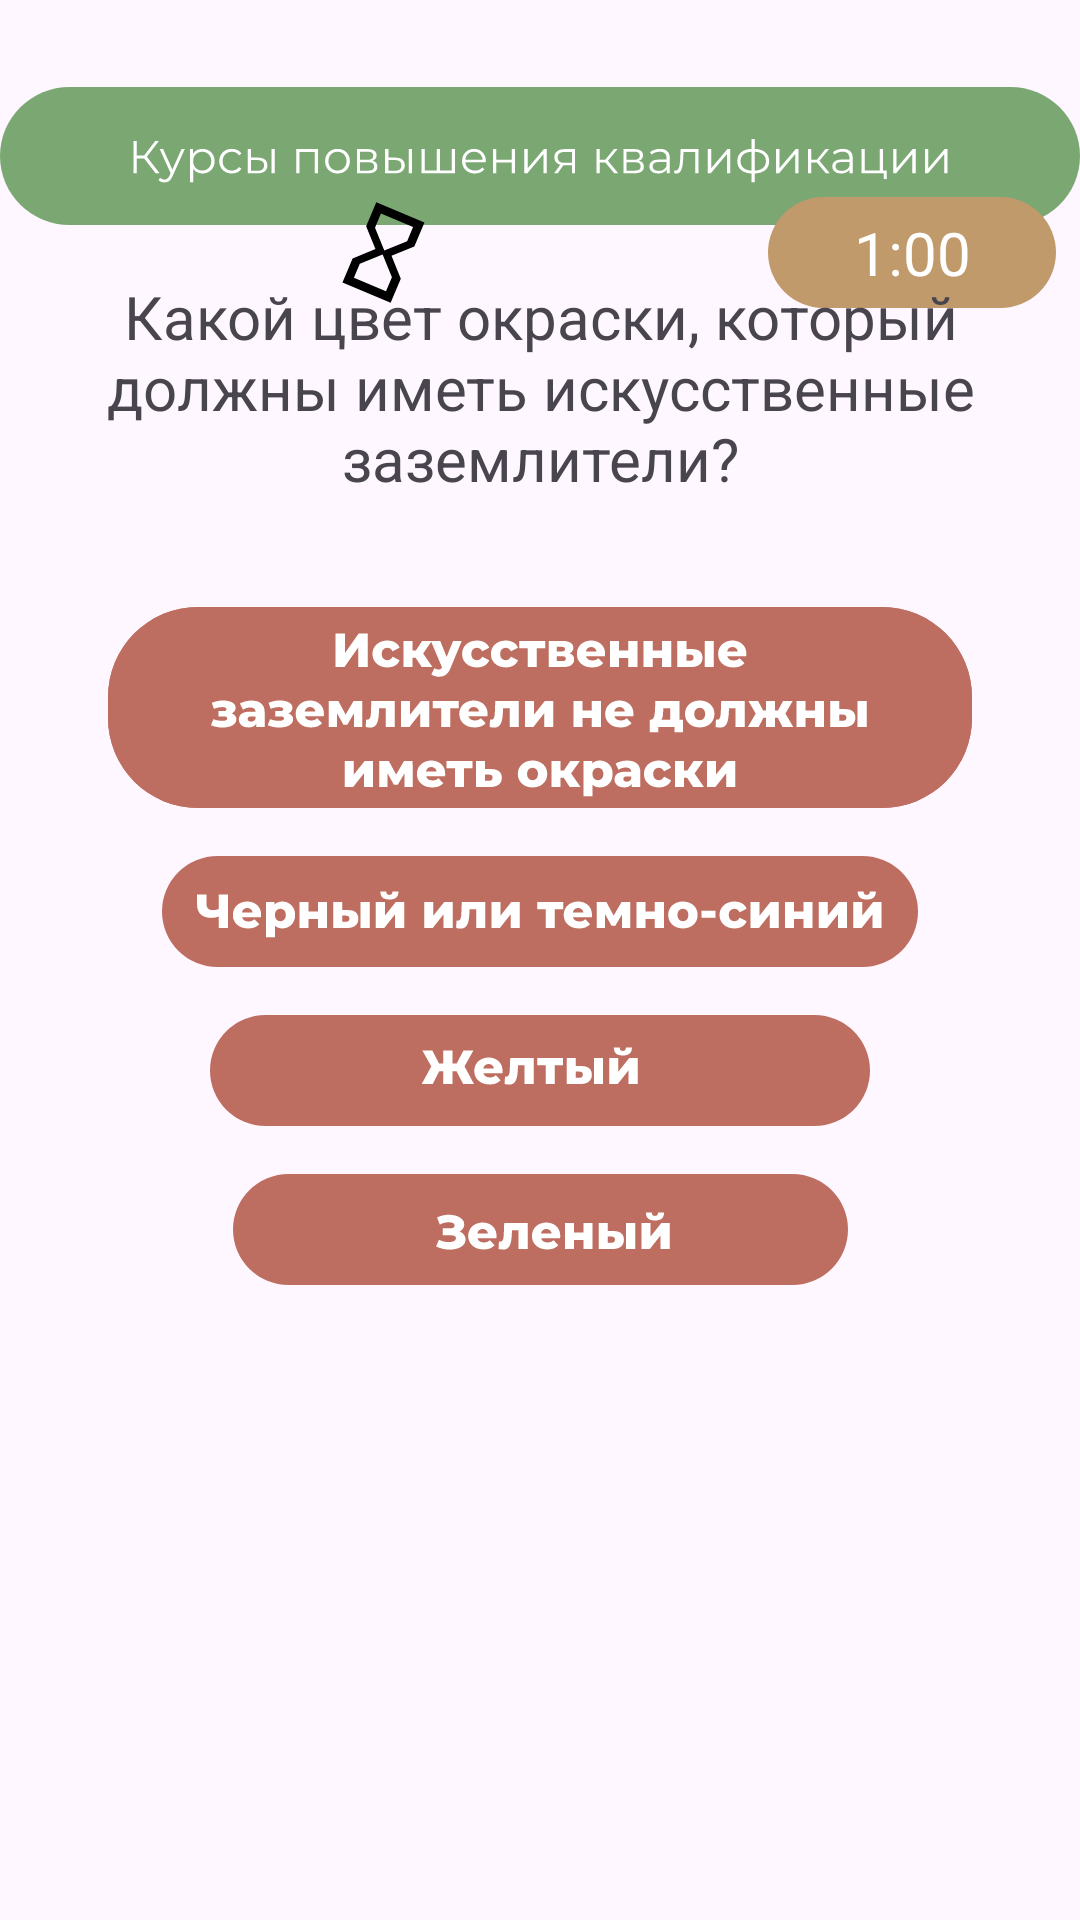

Named icons in this screenshot (1080 × 1920) and their centers, (x=x, y=y):
time: (x=384, y=253)
